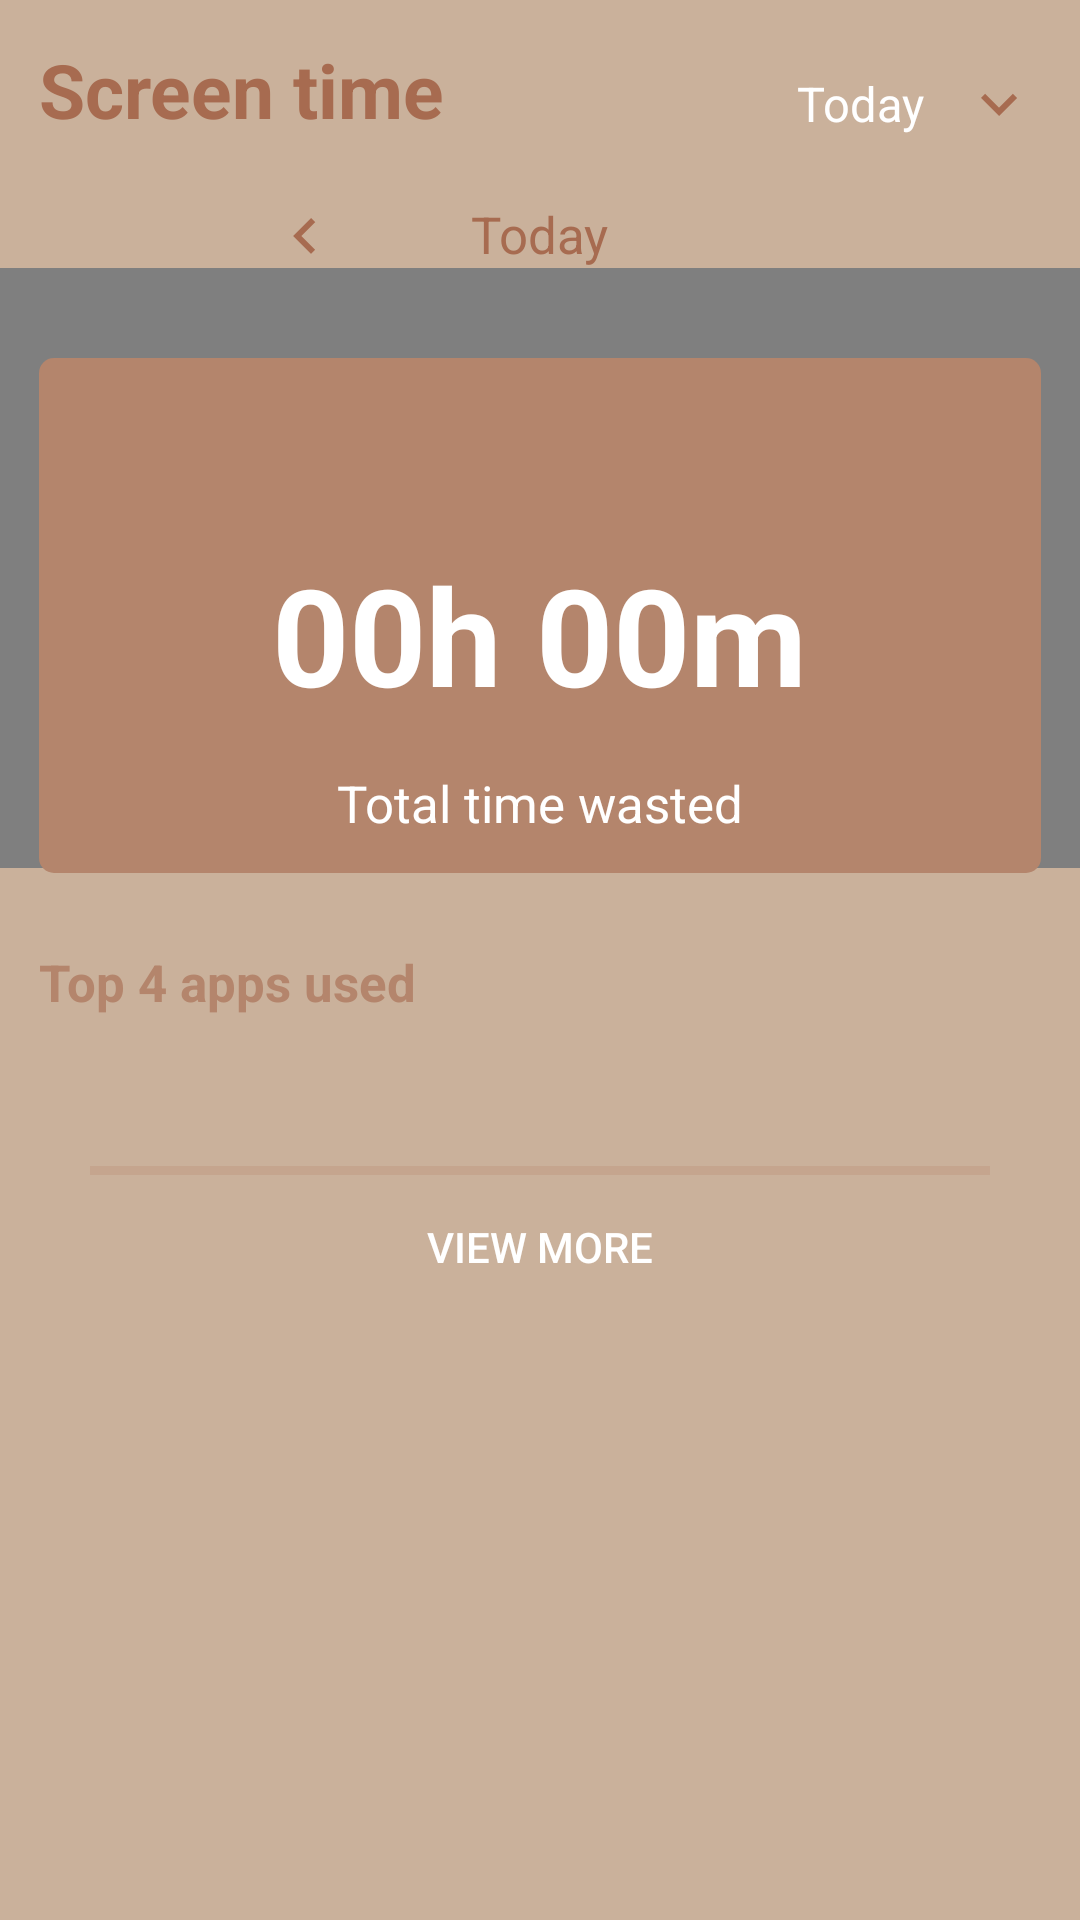

Point at icon controls on the screen. Image size 1080*1920, points as point (x, y).
btnback: point (304, 236)
